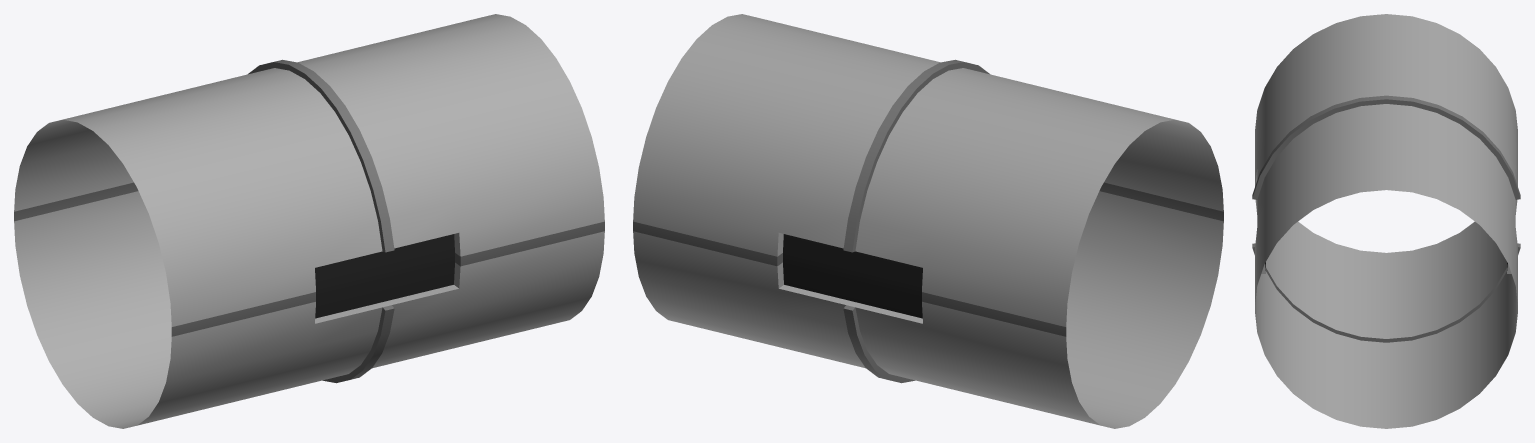
File: Connector.gltf
3 views of the same model, side by side, from view 1: azimuth 30°, elevation 25°; view 2: azimuth 150°, elevation 25°; view 3: azimuth 270°, elevation 25° (orthographic). The views are drawn at different scales.
Parts seen in each view (by area): view 1: Connector; view 2: Connector; view 3: Connector.
Part boxes in pixels (x1,y1,x2,y2): Connector: (14,14,604,428); Connector: (633,14,1223,428); Connector: (1252,14,1520,428).
Bounding box in the file's own units: 3.37 × 2.21 × 2.17.
1 material, 1 textured.
